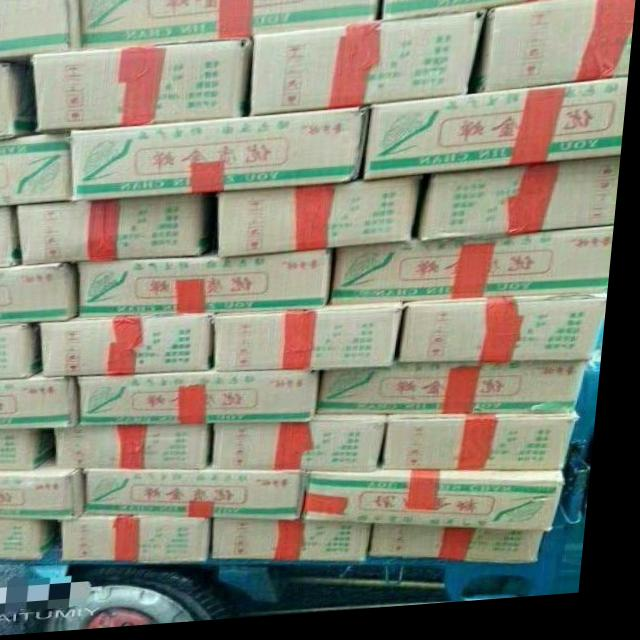box: (77, 113, 372, 203), (363, 87, 631, 186), (250, 15, 487, 120), (335, 235, 619, 310), (33, 45, 246, 134), (218, 181, 431, 261), (421, 166, 625, 249), (311, 478, 576, 541), (473, 0, 637, 100), (80, 256, 338, 319), (81, 0, 383, 51), (405, 302, 614, 372), (322, 372, 594, 425), (18, 197, 217, 266), (220, 309, 412, 376), (92, 471, 314, 527), (84, 378, 327, 428), (46, 315, 220, 377), (390, 423, 586, 478), (218, 422, 397, 480), (70, 519, 226, 566), (64, 427, 221, 473), (222, 526, 383, 569), (381, 533, 557, 572), (0, 456, 95, 522), (0, 133, 77, 208), (383, 0, 611, 25), (0, 371, 86, 429), (0, 0, 84, 59), (0, 266, 80, 325), (0, 521, 70, 563), (0, 61, 37, 140), (0, 325, 47, 381), (0, 430, 62, 470), (0, 208, 24, 268)
